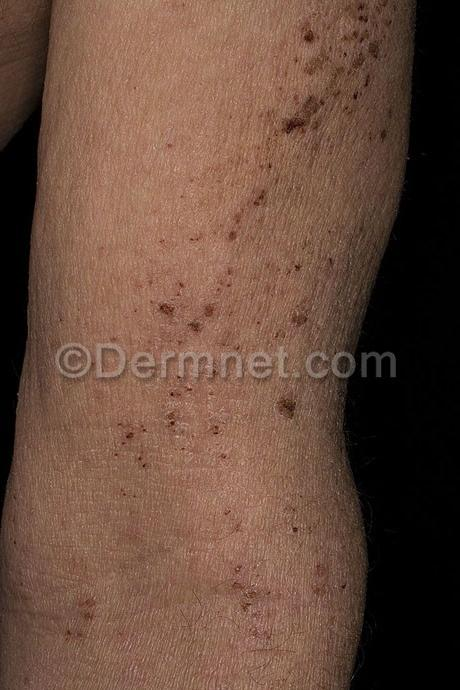exudacion 2: (50, 0, 406, 652)
